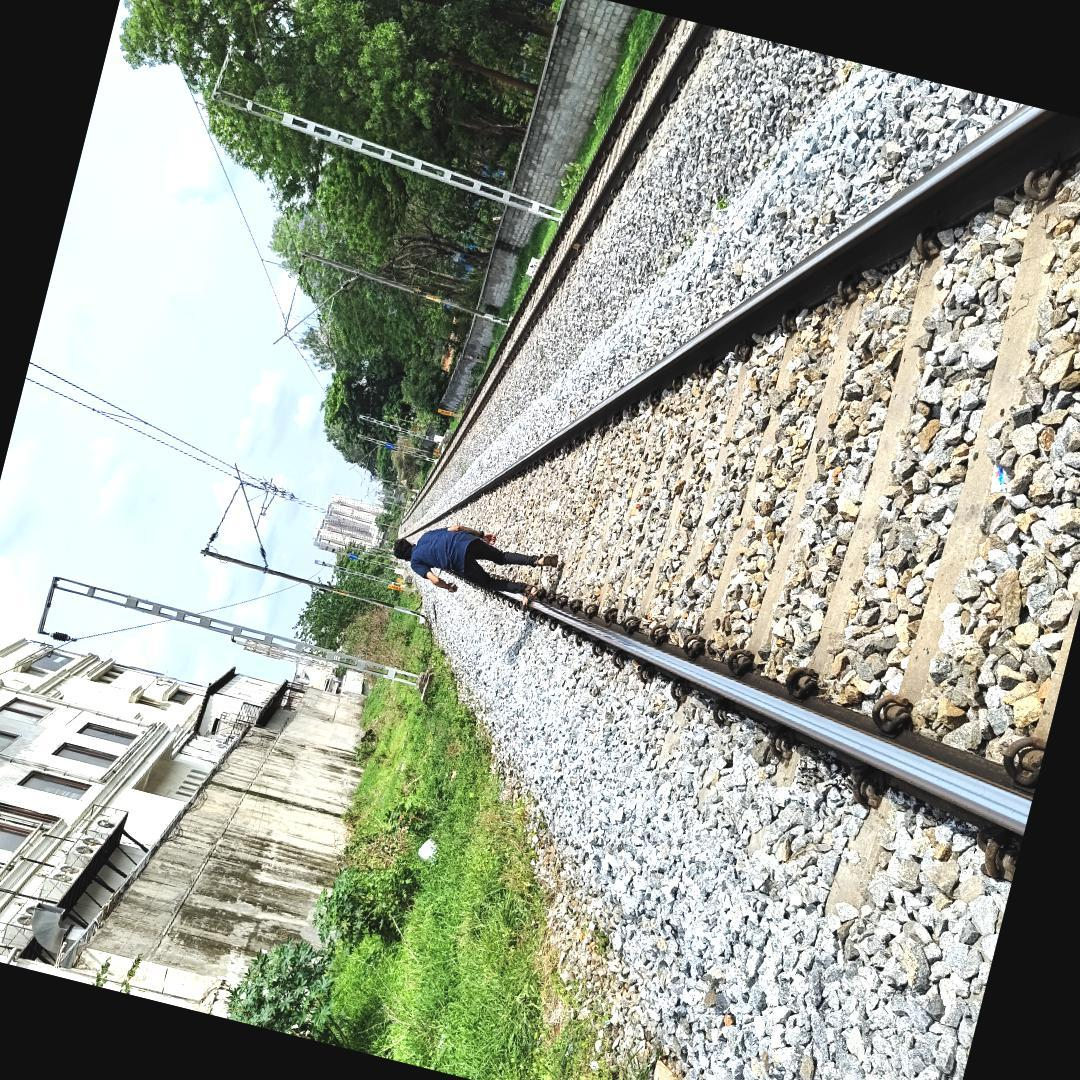standing: (371, 495, 566, 642)
track: (392, 105, 1080, 874)
